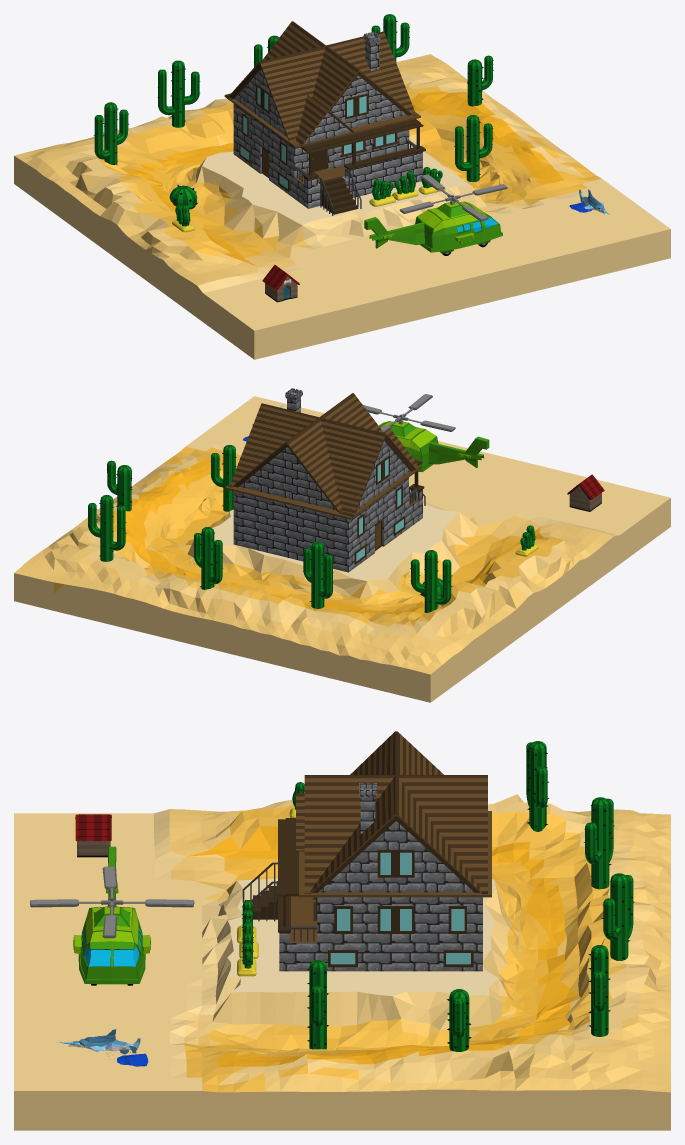
3 renders of one model, top to bottom at view 1: azimuth 30°, elevation 25°; view 2: azimuth 150°, elevation 25°; view 3: azimuth 270°, elevation 25°, orthographic. The views are drawn at different scales.
Parts seen in each view (by area): view 1: Cube.001, Cube.586, VEHICLES_HELICOPTER, Cylinder.037, Cylinder.044, Cylinder.045, Cylinder.038, OBJRANDOM_DOGHOUSE, Cylinder.042, Cylinder.039, Sphere.023, Cylinder.040; view 2: Cube.001, Cube.586, VEHICLES_HELICOPTER, Cylinder.042, Cylinder.045, Cylinder.044, Cylinder.043, Cylinder.037, Cylinder.038, OBJRANDOM_DOGHOUSE; view 3: Cube.001, Cube.586, VEHICLES_HELICOPTER, Cylinder.043, Cylinder.044, Cylinder.045, Cylinder.042, Cylinder.037, OBJRANDOM_DOGHOUSE, Cylinder.038, ANIMAL_PEZ_ESPADA, Cylinder.041.
Part boxes in pixels (left/top/right/bottom): Cube.001: left=14, top=54, right=670, bottom=359; Cube.586: left=224, top=21, right=425, bottom=215; VEHICLES_HELICOPTER: left=364, top=174, right=507, bottom=255; Cylinder.037: left=454, top=115, right=493, bottom=182; Cylinder.044: left=157, top=60, right=200, bottom=127; Cylinder.045: left=93, top=102, right=129, bottom=164; Cylinder.038: left=467, top=55, right=493, bottom=106; OBJRANDOM_DOGHOUSE: left=262, top=265, right=299, bottom=302; Cylinder.042: left=371, top=14, right=409, bottom=62; Cylinder.039: left=369, top=179, right=395, bottom=206; Sphere.023: left=169, top=184, right=197, bottom=209; Cylinder.040: left=392, top=171, right=418, bottom=200; Cube.001: left=14, top=396, right=670, bottom=702; Cube.586: left=225, top=388, right=425, bottom=572; VEHICLES_HELICOPTER: left=363, top=394, right=489, bottom=472; Cylinder.042: left=88, top=495, right=126, bottom=561; Cylinder.045: left=410, top=550, right=452, bottom=612; Cylinder.044: left=303, top=541, right=333, bottom=608; Cylinder.043: left=193, top=527, right=222, bottom=589; Cylinder.037: left=211, top=445, right=240, bottom=511; Cylinder.038: left=107, top=460, right=132, bottom=511; OBJRANDOM_DOGHOUSE: left=567, top=474, right=604, bottom=511; Cube.001: left=14, top=794, right=670, bottom=1130; Cube.586: left=242, top=731, right=491, bottom=971; VEHICLES_HELICOPTER: left=30, top=846, right=194, bottom=985; Cylinder.043: left=602, top=873, right=634, bottom=960; Cylinder.044: left=584, top=797, right=614, bottom=889; Cylinder.045: left=526, top=741, right=548, bottom=831; Cylinder.042: left=588, top=945, right=610, bottom=1036; Cylinder.037: left=307, top=959, right=328, bottom=1049; OBJRANDOM_DOGHOUSE: left=75, top=814, right=111, bottom=857; Cylinder.038: left=447, top=989, right=471, bottom=1051; ANIMAL_PEZ_ESPADA: left=57, top=1029, right=148, bottom=1066; Cylinder.041: left=237, top=933, right=256, bottom=976.
Bounding box in the file's own units: 4002 × 1640 × 4001.
34 materials, 3 textured.
